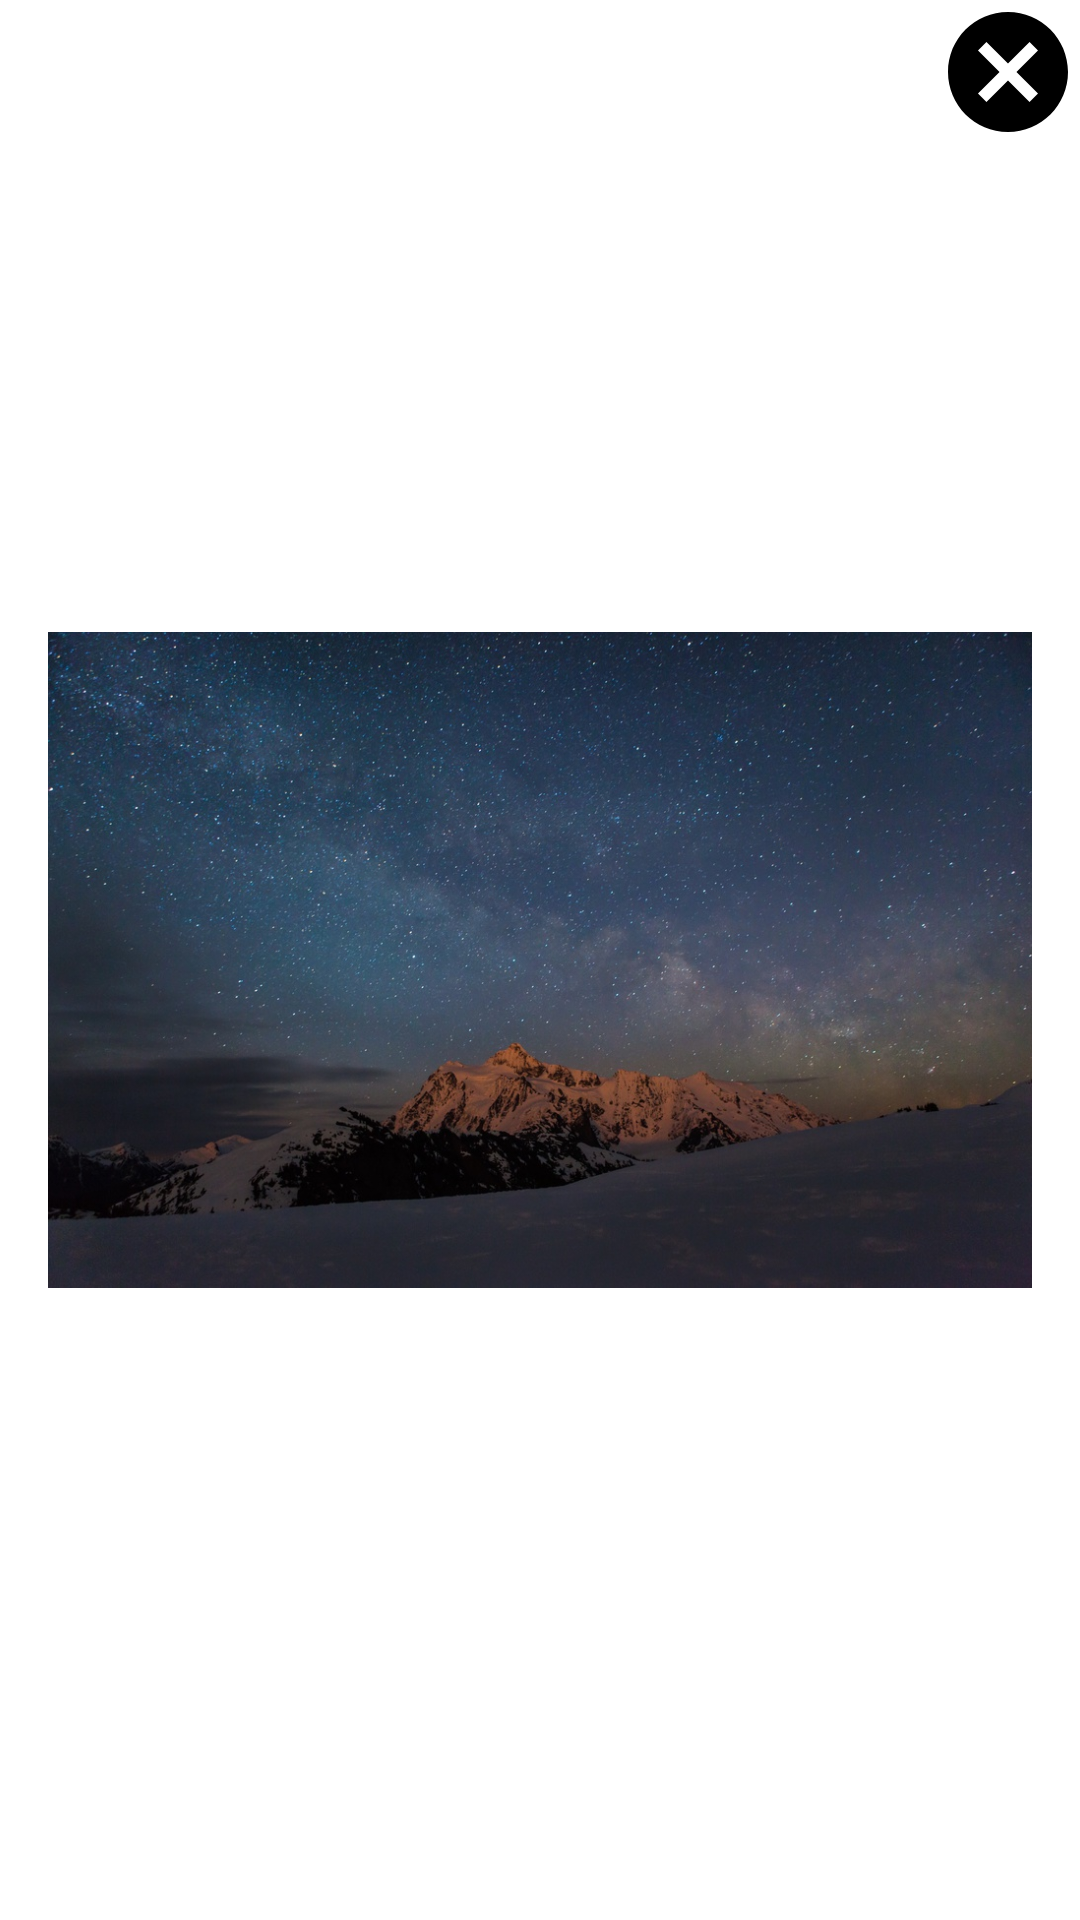

Point at icon controls on the screen. Image size 1080w x 1920h, points as point (x, y).
cancel: point (1008, 72)
